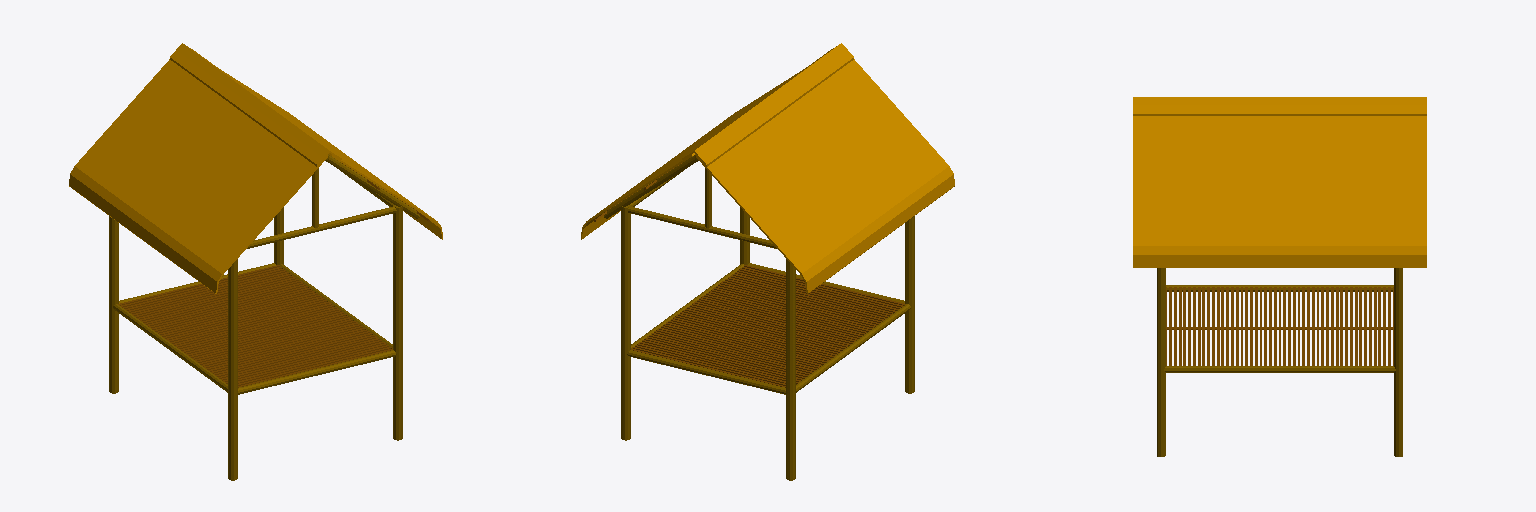
The model's file is gubuk.obj.
3 renders of one model, left to right at view 1: azimuth 30°, elevation 25°; view 2: azimuth 150°, elevation 25°; view 3: azimuth 270°, elevation 25°, orthographic.
Visible parts, largest first — view 1: gubuk; view 2: gubuk; view 3: gubuk.
Part boxes in pixels (bbox=[...]): gubuk: bbox=[69, 43, 442, 480]; gubuk: bbox=[581, 43, 954, 480]; gubuk: bbox=[1133, 97, 1426, 456].
Size of the model in its own units: 276 by 369 by 310.